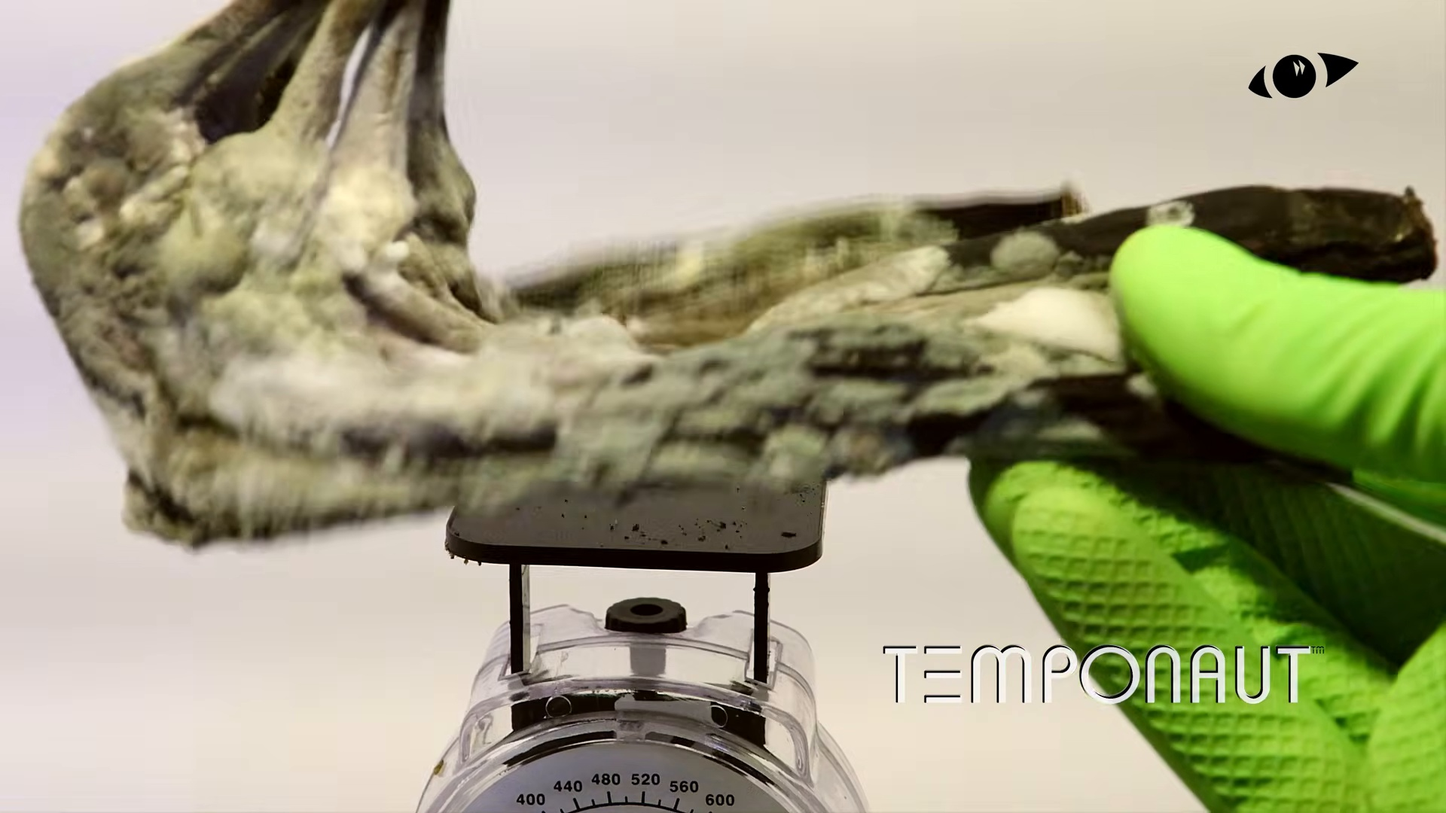banana_rotten: (14, 2, 1428, 562)
